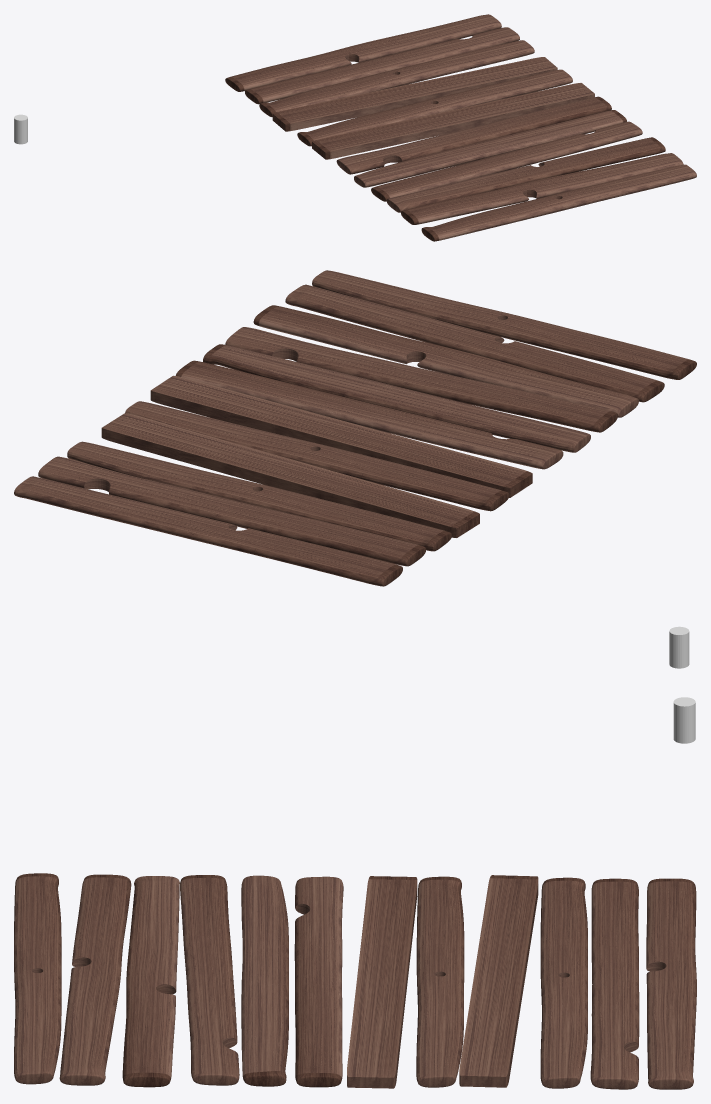
File: WoodenFlooringWagon.fbx
The picture shows the model from 3 angles, top to bottom: view 1: azimuth 30°, elevation 25°; view 2: azimuth 150°, elevation 25°; view 3: azimuth 270°, elevation 25°; orthographic projection. The views are drawn at different scales.
Visible parts, largest first — view 1: Template].001, Template], Log3, Log1.001, Log3.001, Log3.002, Log2.002, Log2.001, Log1.002, Log1, Log2, Log1.003 (+1 smaller); view 2: Template], Template].001, Log3, Log3.002, Log2, Log2.001, Log3.001, Log1.001, Log2.002, Log1.002, Log1, Log1.003 (+1 smaller); view 3: Template], Template].001, Log3.002, Log3.001, Log3, Log2.002, Log2, Log2.001, Log1.003, Log1.002, Log1.001, Log1 (+1 smaller).
Part boxes in pixels (x1,y1,x2,y2): Template].001: (312, 83, 594, 159); Template]: (272, 57, 557, 131); Log3: (225, 14, 501, 91); Log1.001: (421, 164, 696, 241); Log3.001: (401, 153, 683, 224); Log3.002: (386, 137, 665, 212); Log2.002: (336, 96, 611, 174); Log2.001: (371, 121, 642, 201); Log1.002: (354, 110, 626, 187); Log1: (259, 40, 534, 116); Log2: (245, 27, 519, 104); Log1.003: (297, 69, 572, 146); Template]: (101, 413, 479, 537); Template].001: (150, 375, 532, 497); Log3: (14, 476, 402, 586); Log3.002: (253, 305, 638, 417); Log2: (38, 456, 426, 566); Log2.001: (225, 327, 617, 432); Log3.001: (285, 284, 664, 402); Log1.001: (312, 270, 696, 379); Log2.002: (175, 360, 563, 469); Log1.002: (203, 344, 590, 452); Log1: (67, 441, 451, 551); Log1.003: (125, 401, 509, 511); Template]: (459, 875, 538, 1087); Template].001: (347, 876, 417, 1088); Log3.002: (122, 876, 179, 1087); Log3.001: (59, 874, 131, 1085); Log3: (646, 878, 696, 1089); Log2.002: (294, 876, 343, 1087); Log2: (590, 878, 639, 1089); Log2.001: (180, 875, 239, 1085); Log1.003: (416, 876, 464, 1087); Log1.002: (241, 875, 288, 1086); Log1.001: (14, 873, 61, 1084); Log1: (540, 877, 587, 1088).
Size of the model in its own units: 2231 by 106 by 1767.
